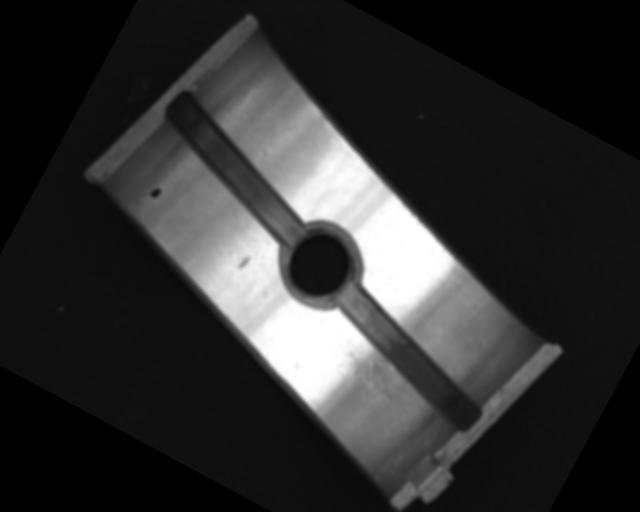blot: (146, 184, 164, 202)
bruise: (237, 253, 252, 271)
gap: (136, 88, 335, 249), (309, 279, 508, 437)
hole: (267, 212, 371, 316)
scratch: (318, 333, 430, 426)
